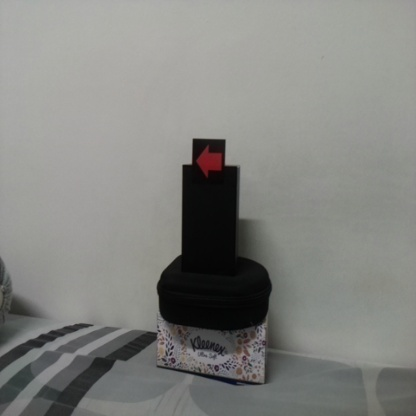id_4: (192, 140, 226, 183)
